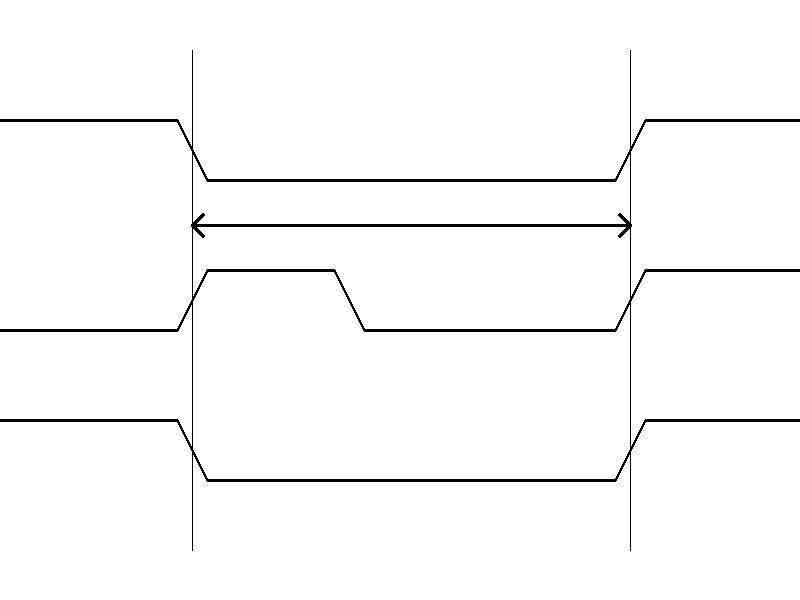double_arrow: (192, 210, 630, 240)
